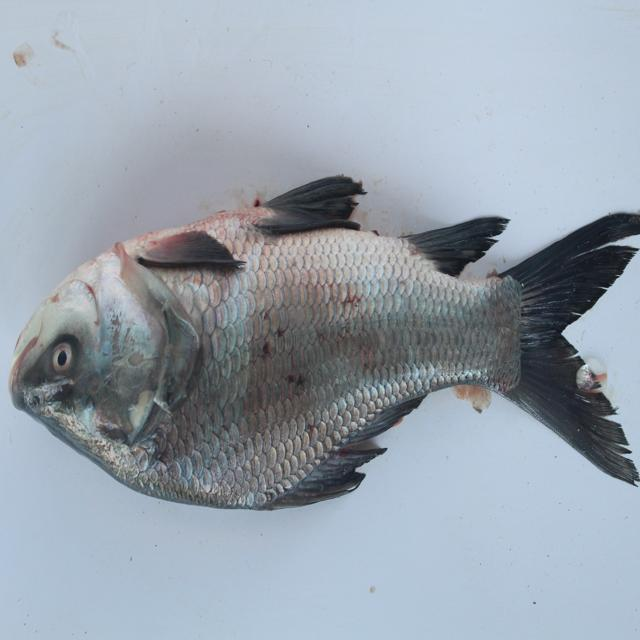Catla: (4, 171, 640, 516)
